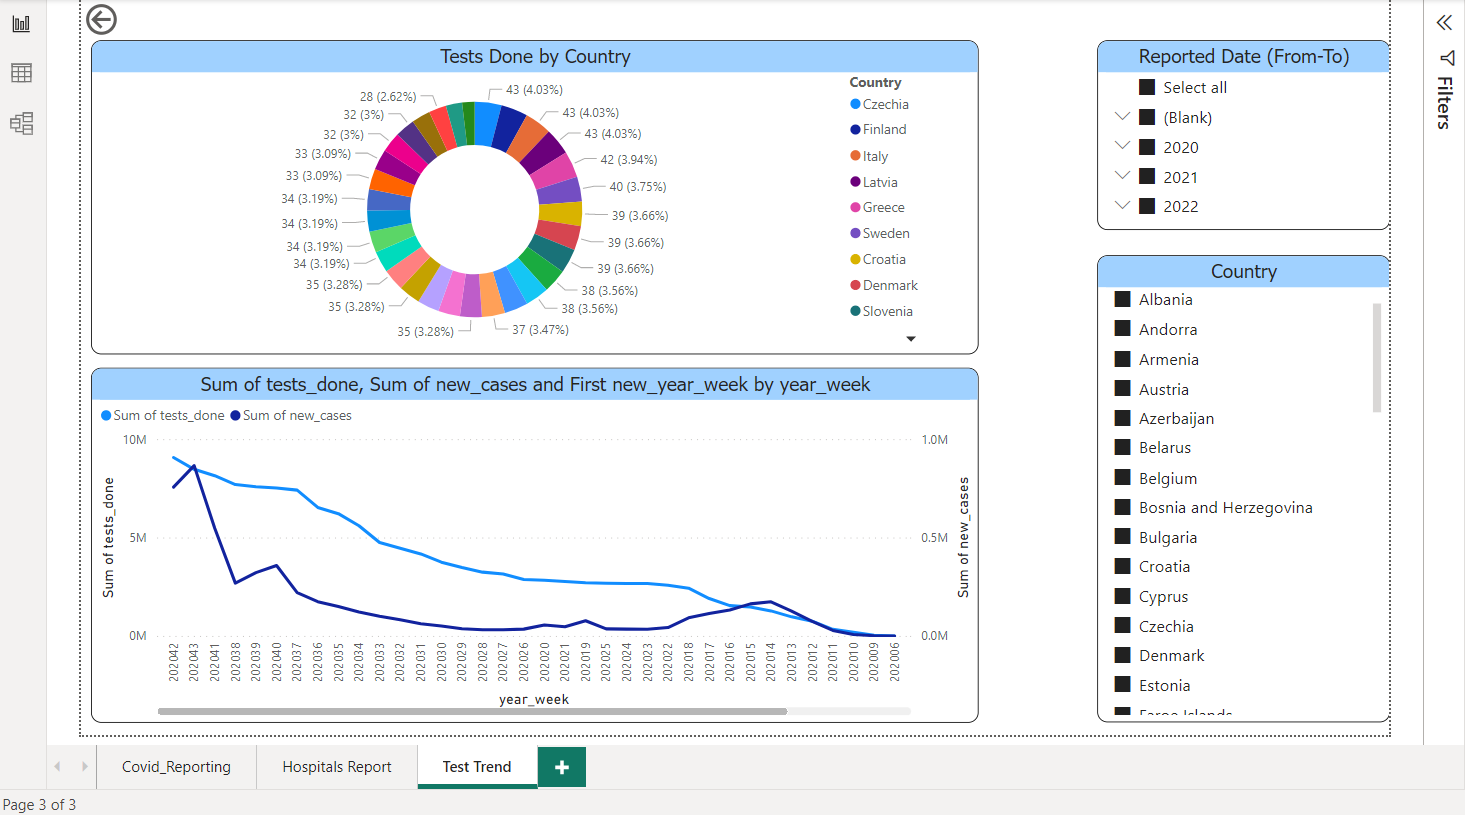

Layout of this report page (visuals, bound fields, positions):
{"tool":"powerbi","page":{"name":"Test Trend","canvas":[1280,720],"ordinal":2},"visuals":[{"type":"slicer","title":"Reported Date (From-To)","fields":{"Values":["covid_reporting_dim dim_dt.year","covid_reporting_dim dim_dt.month_name","covid_reporting_dim dim_dt.date"]},"box":[993.8,40.3,286,185.8],"z":1000},{"type":"actionButton","box":[0,0,100,40],"z":2000},{"type":"donutChart","fields":{"Category":["covid_reporting testing.country"],"Y":["CountNonNull(covid_reporting testing.tests_done)"]},"box":[9.8,40.3,867.9,306.8],"z":3000},{"type":"lineChart","fields":{"Y":["Sum(covid_reporting testing.tests_done)"],"Category":["covid_reporting_dim dim_dt.year_week"],"Y2":["Sum(covid_reporting testing.new_cases)"]},"box":[9.8,360.6,867.9,347.2],"z":4000},{"type":"slicer","title":"Country","fields":{"Values":["covid_reporting_dim lkp_cntry.country"]},"box":[993.8,250.6,286,457.2],"z":4001}]}

Visuals, with their boxes on the page's 1280x720 design canvas (x1, y1, x2, y2). These are canvas units, not pixel positions in the 1465x815 screenshot, which may show the page scaled, cropped or inside an application window:
"Reported Date (From-To)" slicer: bbox=[994, 40, 1280, 226]
actionButton: bbox=[0, 0, 100, 40]
donutChart - covid_reporting testing.country x CountNonNull(covid_reporting testing.tests_done): bbox=[10, 40, 878, 347]
lineChart - Sum(covid_reporting testing.tests_done) x covid_reporting_dim dim_dt.year_week: bbox=[10, 361, 878, 708]
"Country" slicer: bbox=[994, 251, 1280, 708]
